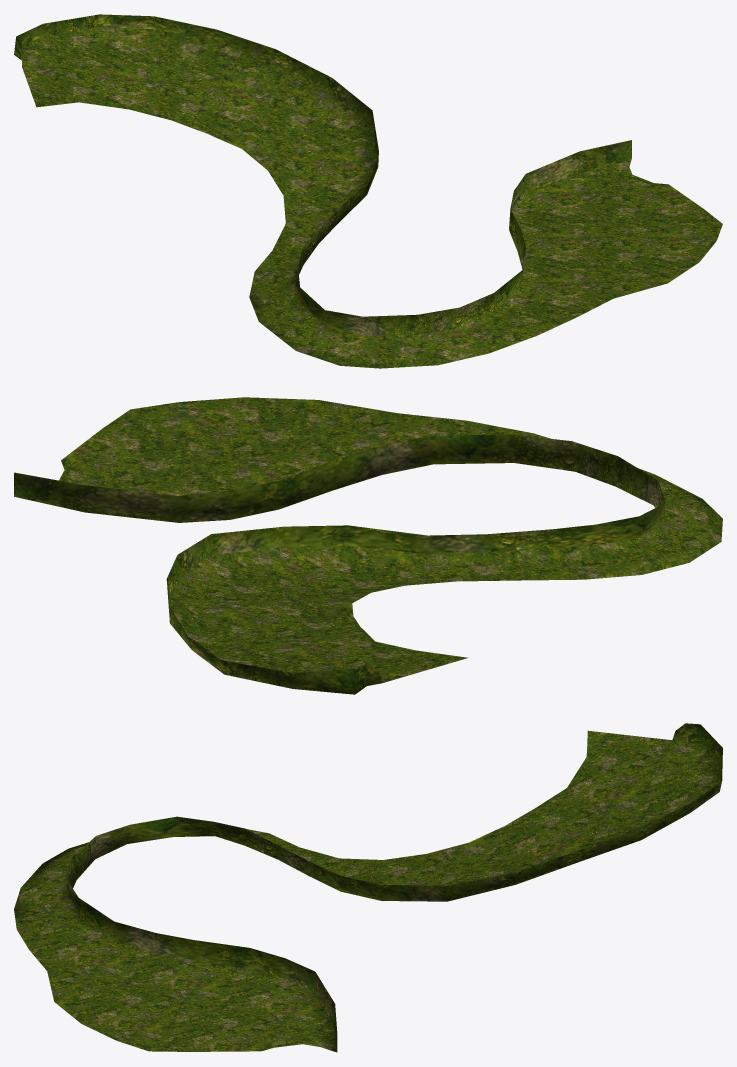
The model's file is OVERHILL_A_01_LINE235.fbx.
3 views of the same model, one above another, from view 1: azimuth 30°, elevation 25°; view 2: azimuth 150°, elevation 25°; view 3: azimuth 270°, elevation 25° (orthographic). The views are drawn at different scales.
Visible parts, largest first — view 1: OVERHILL_A_01_LINE235; view 2: OVERHILL_A_01_LINE235; view 3: OVERHILL_A_01_LINE235.
Boxes of the visible parts, <box> form: OVERHILL_A_01_LINE235: <box>14,14,722,368</box>; OVERHILL_A_01_LINE235: <box>14,397,722,694</box>; OVERHILL_A_01_LINE235: <box>14,723,722,1052</box>.
Bounding box in the file's own units: 128584 × 28866 × 159977.
Materials: 2 (2 with a texture image).
